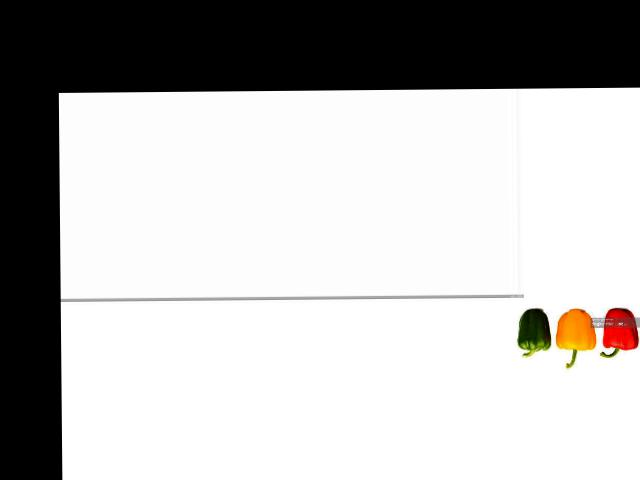bell_pepper: (513, 305, 549, 363)
